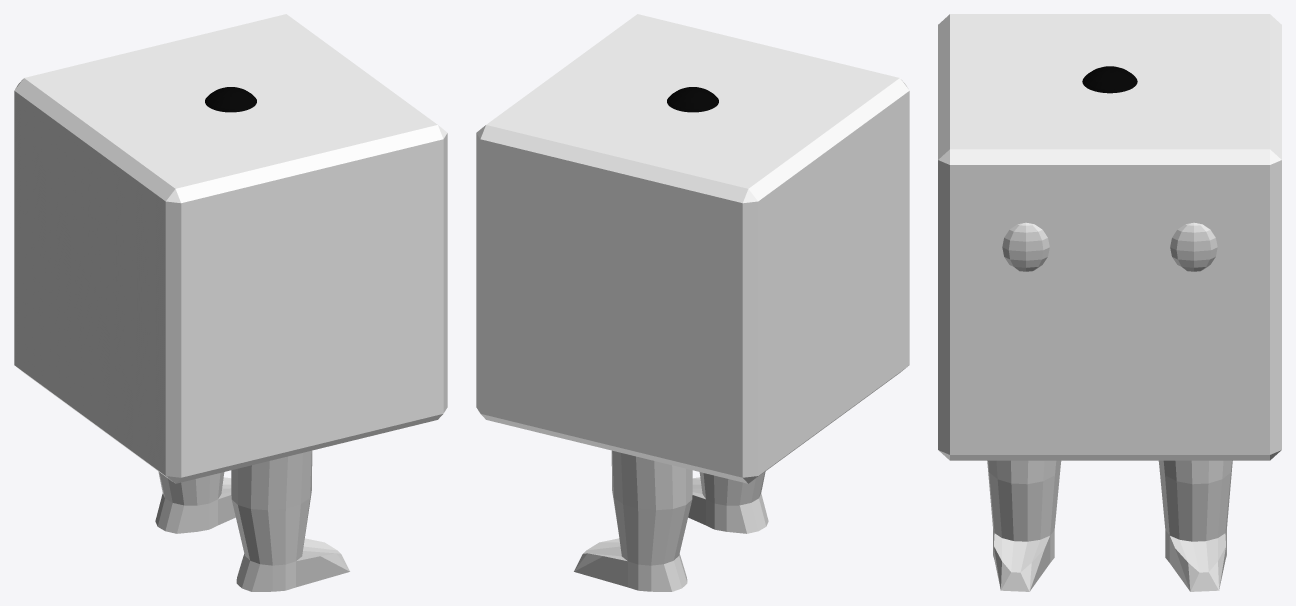
File: diceMan.fbx
3 renders of one model, left to right at view 1: azimuth 30°, elevation 25°; view 2: azimuth 150°, elevation 25°; view 3: azimuth 270°, elevation 25°, orthographic. The views are drawn at different scales.
Parts seen in each view (by area): view 1: dice, legs, Sphere; view 2: dice, legs, Sphere; view 3: dice, legs, Sphere.
Boxes of the visible parts, x1=… form: dice: x1=14, y1=14, x2=447, y2=483; legs: x1=155, y1=450, x2=349, y2=591; Sphere: x1=205, y1=87, x2=256, y2=112; dice: x1=476, y1=14, x2=909, y2=483; legs: x1=574, y1=450, x2=768, y2=591; Sphere: x1=667, y1=87, x2=718, y2=112; dice: x1=938, y1=14, x2=1281, y2=460; legs: x1=987, y1=222, x2=1232, y2=591; Sphere: x1=1082, y1=66, x2=1137, y2=93.
Bounding box in the file's own units: 206 × 312 × 200.
1 material, 1 textured.
